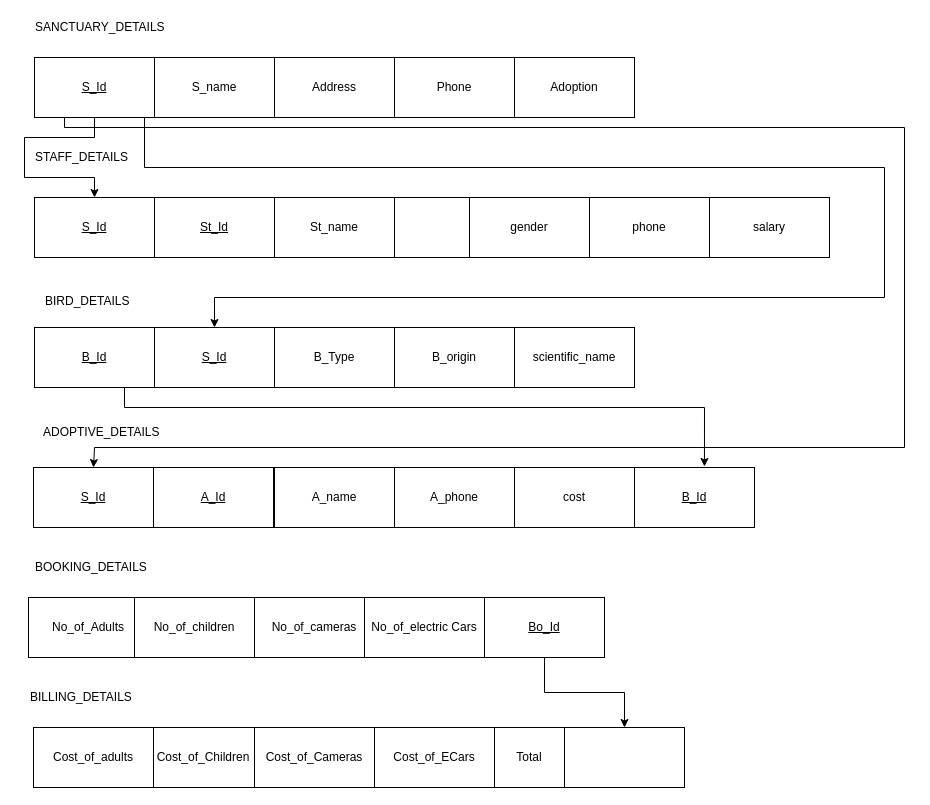
This 930x805 diagram has some shape labels left out. Each missing label, with the box of its shape:
age: (394, 196, 470, 258)
R_Id: (564, 726, 684, 788)
